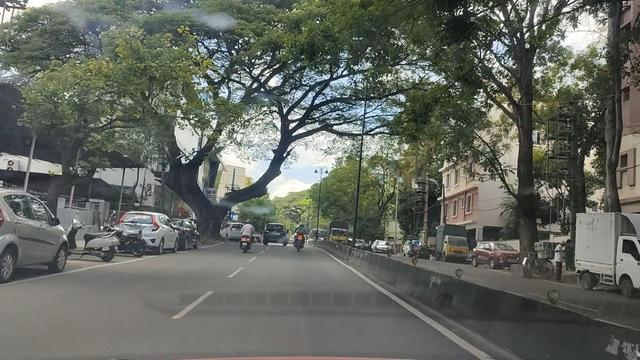LMV: (59, 216, 118, 269)
